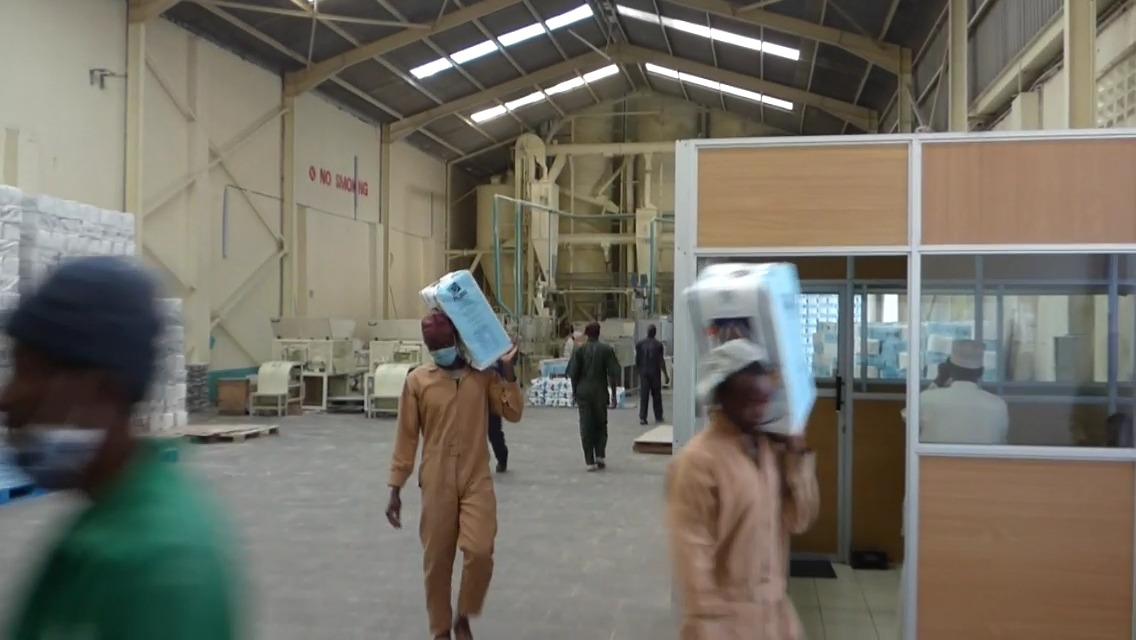wheat_flour_blue_label: (688, 264, 815, 435), (422, 273, 509, 368)
